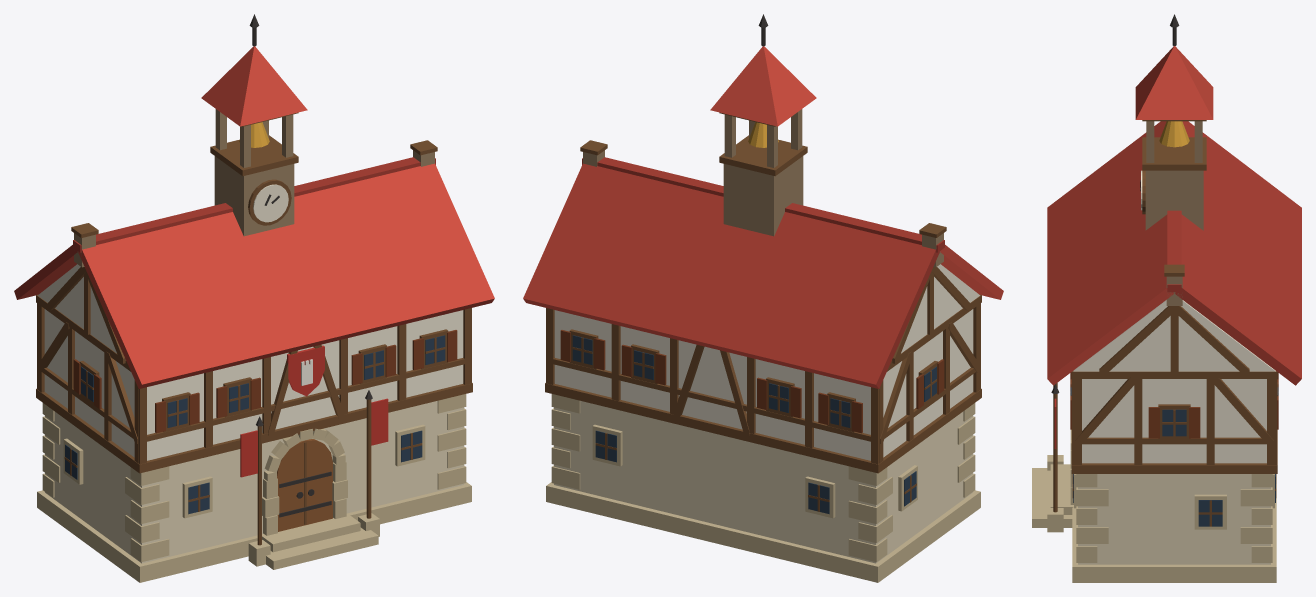
The model's file is townhall.glb.
The picture shows the model from 3 angles, left to right: view 1: azimuth 30°, elevation 25°; view 2: azimuth 150°, elevation 25°; view 3: azimuth 270°, elevation 25°; orthographic projection.
Parts seen in each view (by area): view 1: townhall_dach, townhall_balken, townhall_stein_dunkel, townhall_stein, townhall_putz, townhall_holz_hell, townhall_dach_dunkel, townhall_tuer, townhall_glas, townhall_laden, townhall_rot, townhall_zifferblatt (+1 smaller); view 2: townhall_dach_dunkel, townhall_stein, townhall_balken, townhall_putz, townhall_stein_dunkel, townhall_holz_hell, townhall_dach, townhall_glas, townhall_laden; view 3: townhall_dach, townhall_dach_dunkel, townhall_putz, townhall_balken, townhall_stein, townhall_stein_dunkel, townhall_holz_hell, townhall_glas, townhall_laden, townhall_gold.
Part boxes in pixels (box(x1,y1,x2,y2)): townhall_dach: box(78, 46, 494, 388); townhall_balken: box(36, 112, 472, 545); townhall_stein_dunkel: box(37, 394, 471, 582); townhall_stein: box(45, 401, 463, 563); townhall_putz: box(38, 264, 463, 460); townhall_holz_hell: box(74, 109, 434, 267); townhall_dach_dunkel: box(14, 157, 435, 299); townhall_tuer: box(277, 439, 332, 531); townhall_glas: box(65, 335, 445, 514); townhall_laden: box(73, 330, 457, 433); townhall_rot: box(240, 345, 388, 477); townhall_zifferblatt: box(253, 184, 288, 222); townhall_dach_dunkel: box(523, 157, 944, 388); townhall_stein: box(554, 401, 972, 563); townhall_balken: box(545, 112, 981, 511); townhall_putz: box(554, 264, 979, 460); townhall_stein_dunkel: box(546, 394, 980, 582); townhall_holz_hell: box(583, 109, 943, 267); townhall_dach: box(710, 46, 1003, 299); townhall_glas: box(572, 335, 936, 514); townhall_laden: box(560, 330, 944, 433); townhall_dach: box(1047, 46, 1213, 385); townhall_dach_dunkel: box(1167, 121, 1301, 385); townhall_putz: box(1073, 300, 1275, 463); townhall_balken: box(1053, 120, 1278, 526); townhall_stein: box(1078, 474, 1270, 564); townhall_stein_dunkel: box(1032, 429, 1276, 582); townhall_holz_hell: box(1145, 121, 1203, 305); townhall_glas: box(1070, 387, 1278, 526); townhall_laden: box(1070, 372, 1278, 438); townhall_gold: box(1159, 121, 1189, 147).
Bounding box in the file's own units: 5.09 × 6.7 × 3.35.
